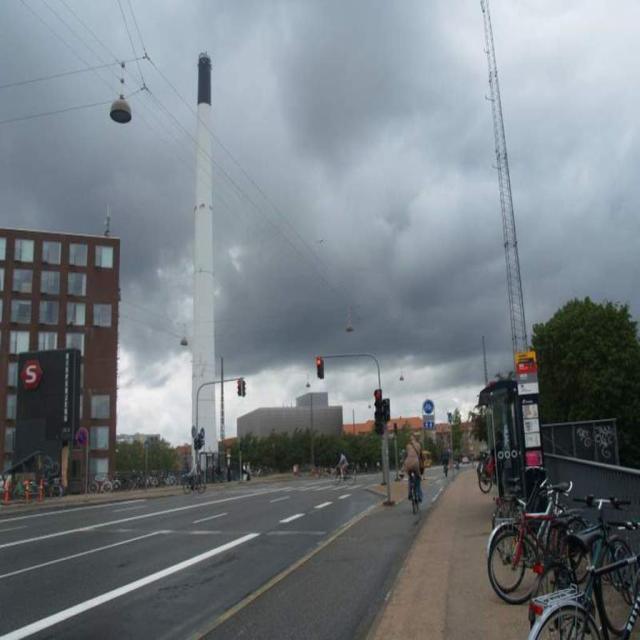traffic light: (316, 356, 324, 378), (236, 379, 244, 396)
